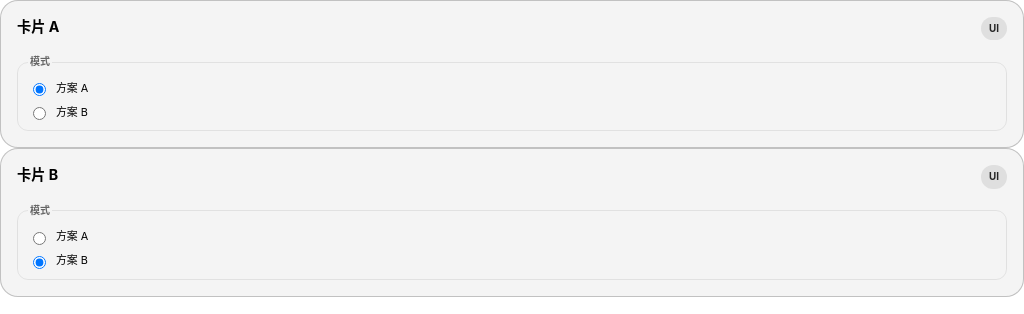
Scenario: MarkdownMessage › keeps composable control state isolated between widgets in the same conversation
The width and height of the screenshot is (1024, 314).
Check: the radio button labelled "方案 A" below "卡片 A" is checked, box x1=33 y1=83 x2=46 y2=96
Check: the radio button labelled "方案 B" below "卡片 B" is checked, box x1=33 y1=256 x2=46 y2=268
Click the radio button labelled "方案 A" below "卡片 B" at (40, 238), box x1=33 y1=232 x2=46 y2=245
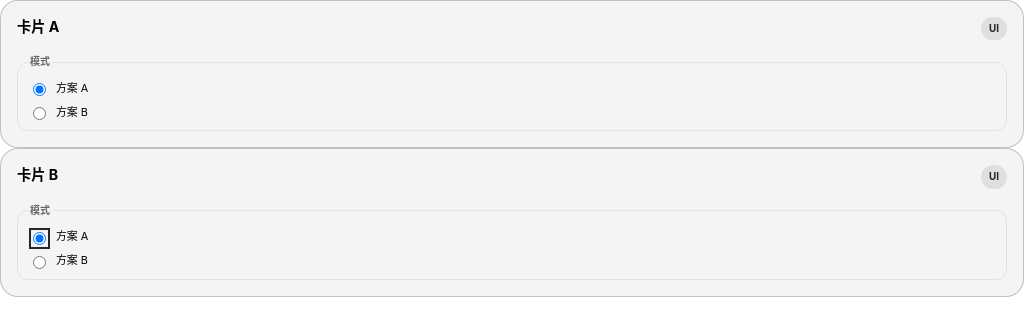
Check: the radio button labelled "方案 A" below "卡片 A" is checked, box x1=33 y1=83 x2=46 y2=96
Check: the radio button labelled "方案 A" below "卡片 B" is checked, box x1=33 y1=232 x2=46 y2=245
Check: the radio button labelled "方案 B" below "卡片 B" is not checked, box x1=33 y1=256 x2=46 y2=268
